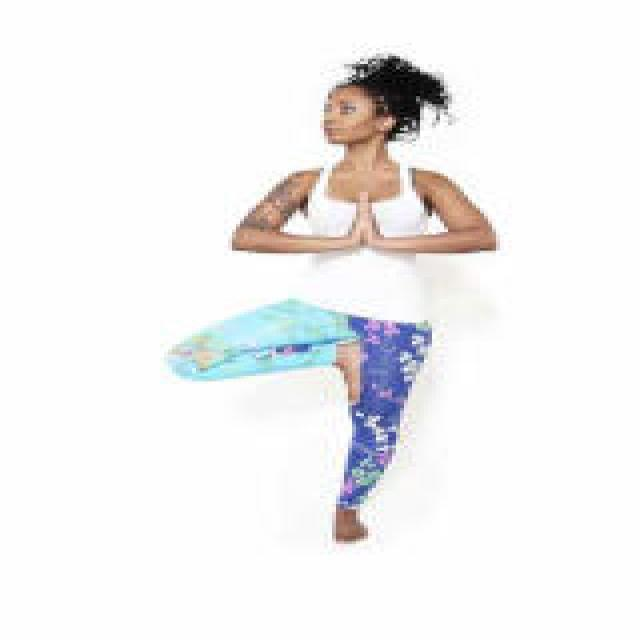yoga-pose tree: (163, 63, 504, 554)
